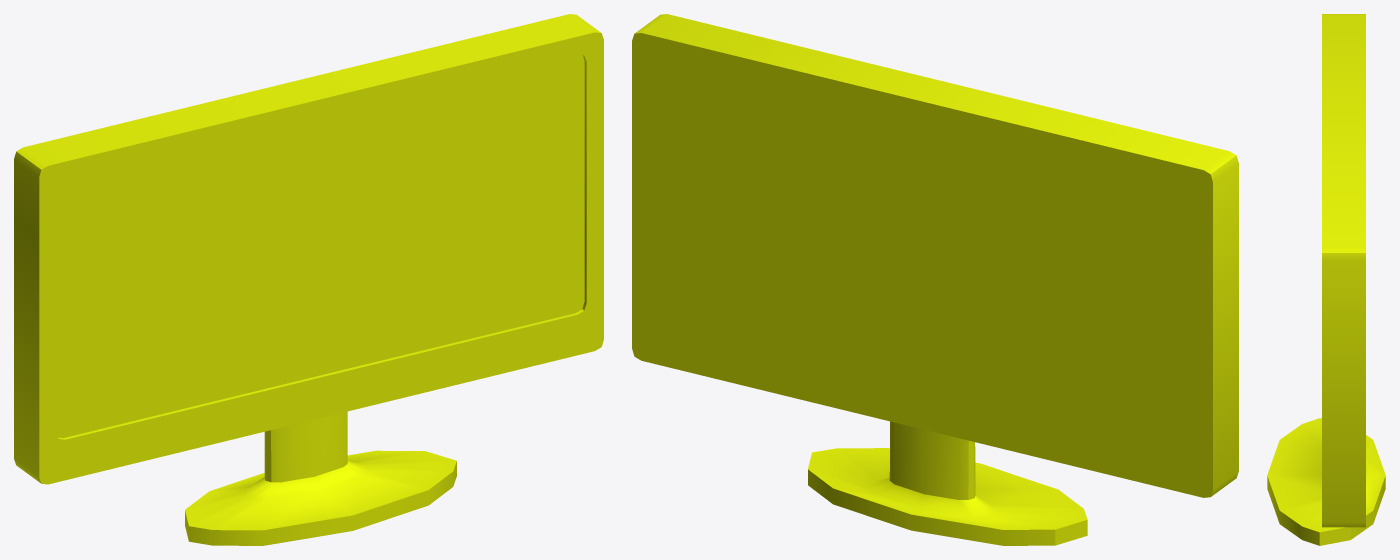
3 views of the same model, side by side, from view 1: azimuth 30°, elevation 25°; view 2: azimuth 150°, elevation 25°; view 3: azimuth 270°, elevation 25° (orthographic). The views are drawn at different scales.
Parts seen in each view (by area): view 1: Cylinder003; view 2: Cylinder003; view 3: Cylinder003.
Boxes of the visible parts, bbox=[...] form: Cylinder003: bbox=[14, 14, 603, 545]; Cylinder003: bbox=[632, 14, 1238, 545]; Cylinder003: bbox=[1267, 14, 1385, 545].
Size of the model in its own units: 1.54 by 1.06 by 0.32.
